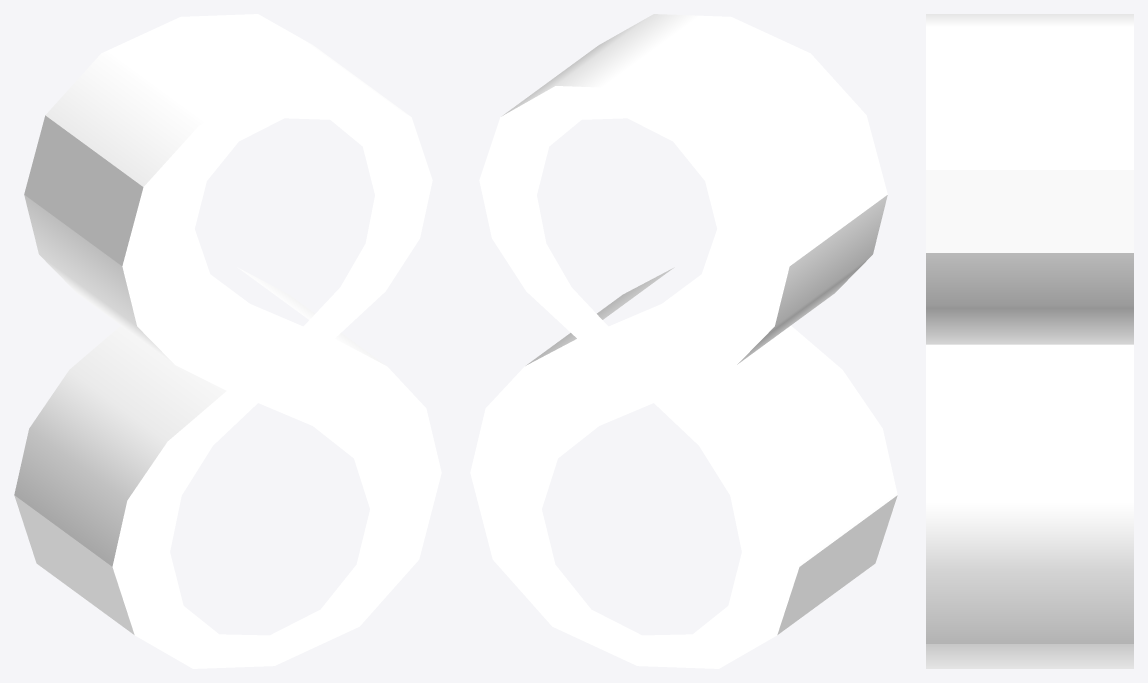
3 renders of one model, left to right at view 1: azimuth 30°, elevation 25°; view 2: azimuth 150°, elevation 25°; view 3: azimuth 270°, elevation 25°, orthographic. The views are drawn at different scales.
Visible parts, largest first — view 1: 8_Soul_White; view 2: 8_Soul_White; view 3: 8_Soul_White.
Part boxes in pixels (x1=…): 8_Soul_White: x1=14, y1=14, x2=441, y2=668; 8_Soul_White: x1=470, y1=14, x2=897, y2=668; 8_Soul_White: x1=926, y1=14, x2=1133, y2=668.
Size of what is drawn, in the model's own units: 0.0871 by 0.1457 by 0.045.
2 materials, 2 textured.
